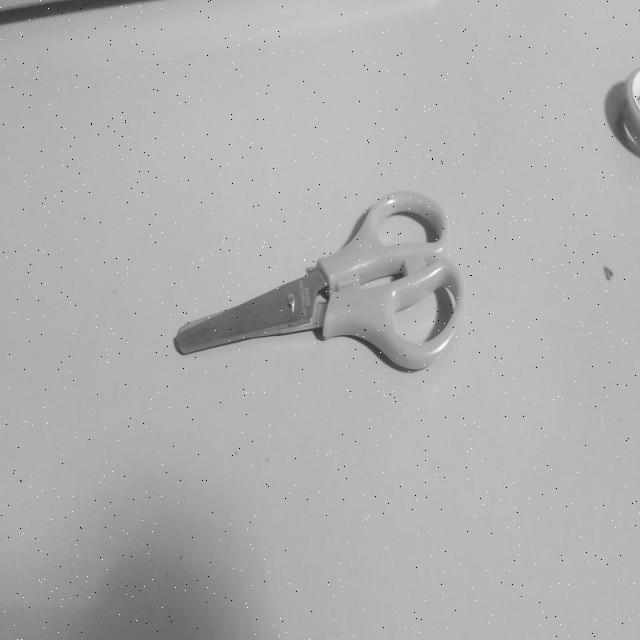scissors: (168, 172, 470, 386)
